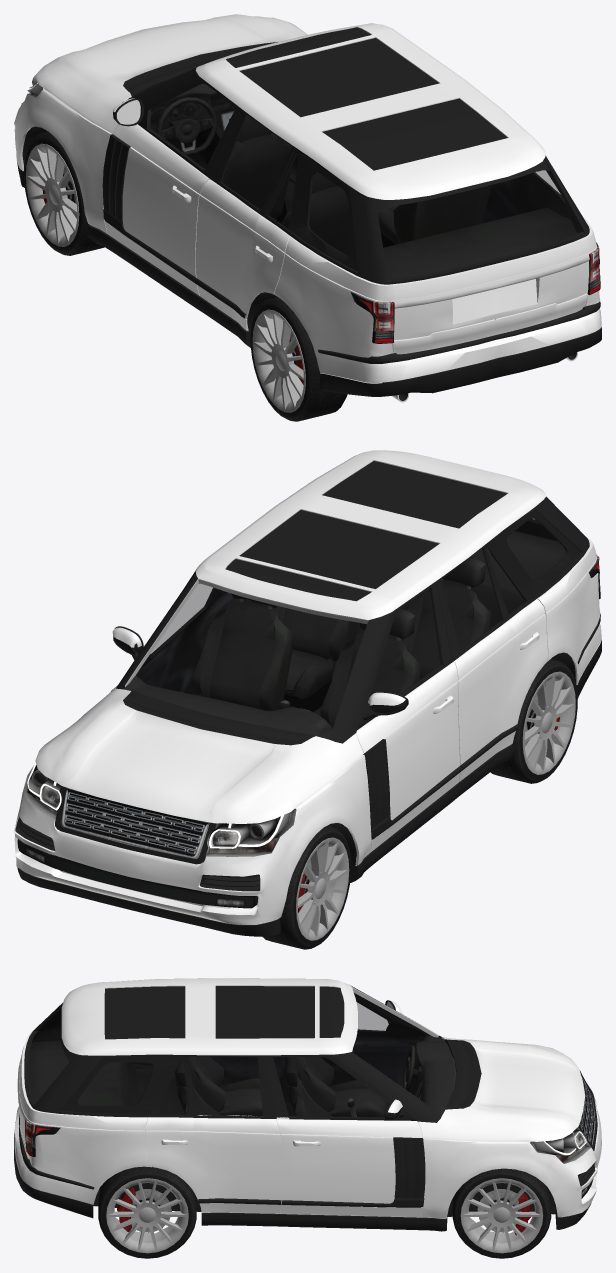
The picture shows the model from 3 angles, top to bottom: view 1: azimuth 30°, elevation 25°; view 2: azimuth 150°, elevation 25°; view 3: azimuth 270°, elevation 25°; orthographic projection. The views are drawn at different scales.
Parts seen in each view (by area): view 1: Paint, Add, Windshield, Interior, wheel.002, wheel.003, Rearlights, Chassis; view 2: Paint, Add, Windshield, Interior, Add.004, wheel.003, wheel.002, Headlights; view 3: Paint, Add, Windshield, Interior, wheel.001, wheel.000, Headlights, Chassis, Add.004, Rearlights.
Part boxes in pixels (box(x1,y1,x2,y2)): Paint: box(14, 14, 601, 383); Add: box(17, 27, 601, 402); Windshield: box(132, 78, 581, 278); Interior: box(128, 84, 582, 279); wheel.002: box(250, 296, 347, 421); wheel.003: box(24, 131, 104, 255); Rearlights: box(350, 242, 600, 343); Chassis: box(22, 126, 371, 356); Paint: box(14, 450, 601, 924); Add: box(15, 461, 601, 936); Windshield: box(124, 510, 581, 738); Interior: box(124, 521, 565, 739); Add.004: box(17, 788, 258, 908); wheel.003: box(262, 825, 351, 949); wheel.002: box(490, 659, 577, 783); Headlights: box(24, 765, 296, 856); Paint: box(14, 978, 601, 1218); Add: box(14, 985, 597, 1231); Windshield: box(30, 989, 454, 1116); Interior: box(29, 993, 456, 1117); wheel.001: box(98, 1166, 196, 1258); wheel.000: box(452, 1168, 551, 1258); Headlights: box(530, 1127, 591, 1163); Chassis: box(93, 1183, 556, 1216); Add.004: box(579, 1076, 595, 1198); Rearlights: box(25, 1119, 60, 1156).
Size of the model in its own units: 407 by 336 by 903.
Materials: 13 (4 with a texture image).
